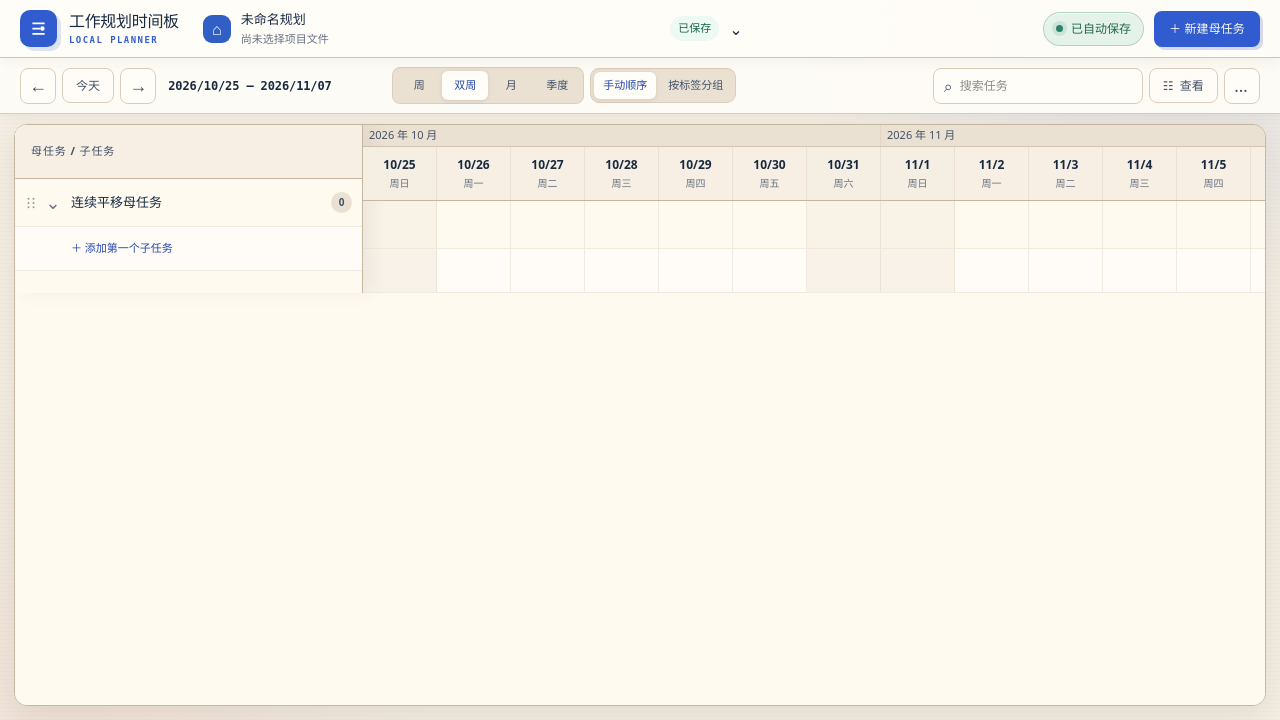
Test: timeline panning › pages by half of the window and persists silently
Check: the text "10/31" is shown, box [827, 156, 860, 174]
Click the button named "下一周期" at (138, 86), box [120, 68, 156, 104]
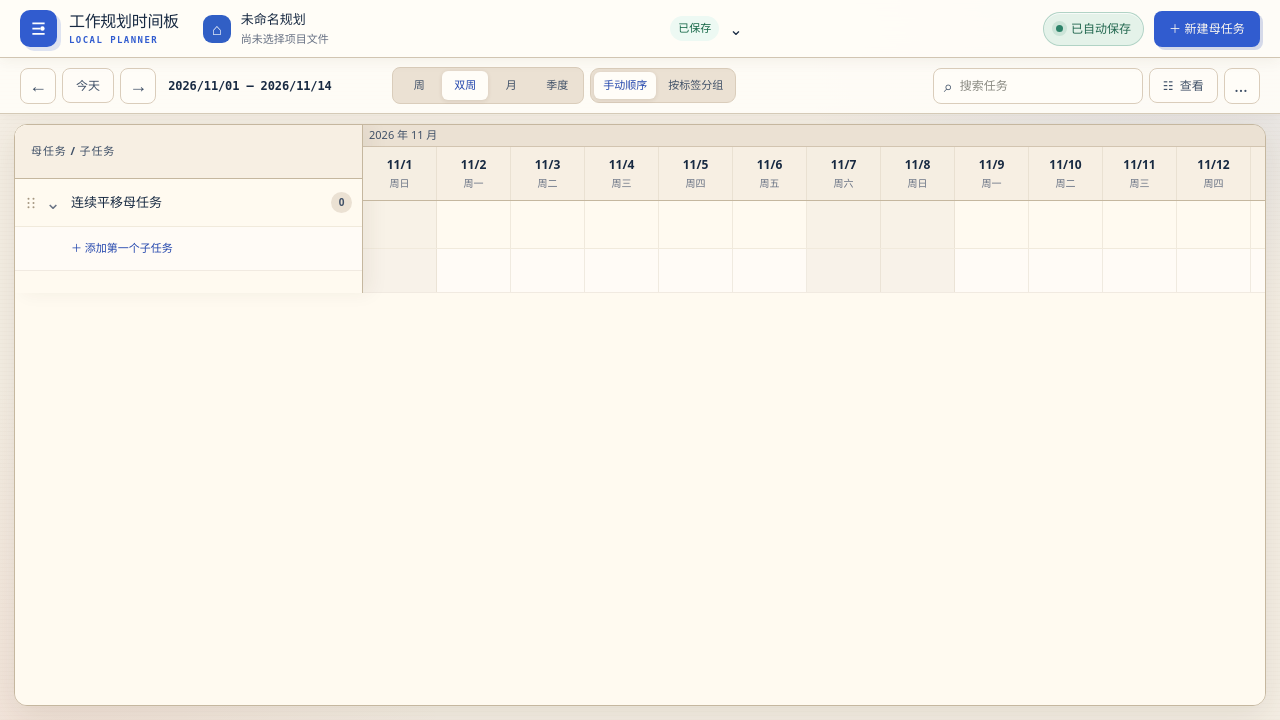
Check: the text "10/31" is gone
